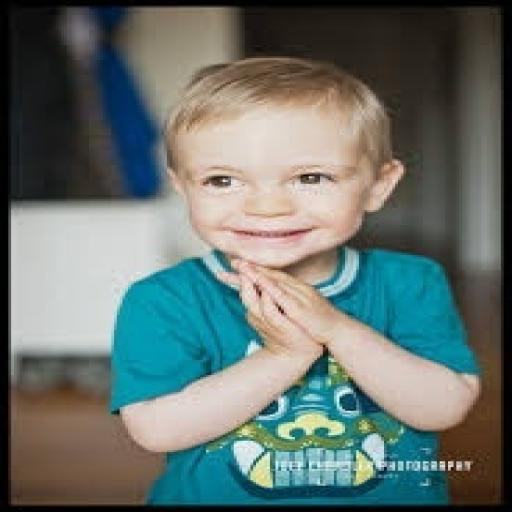clapping: (106, 54, 484, 506)
